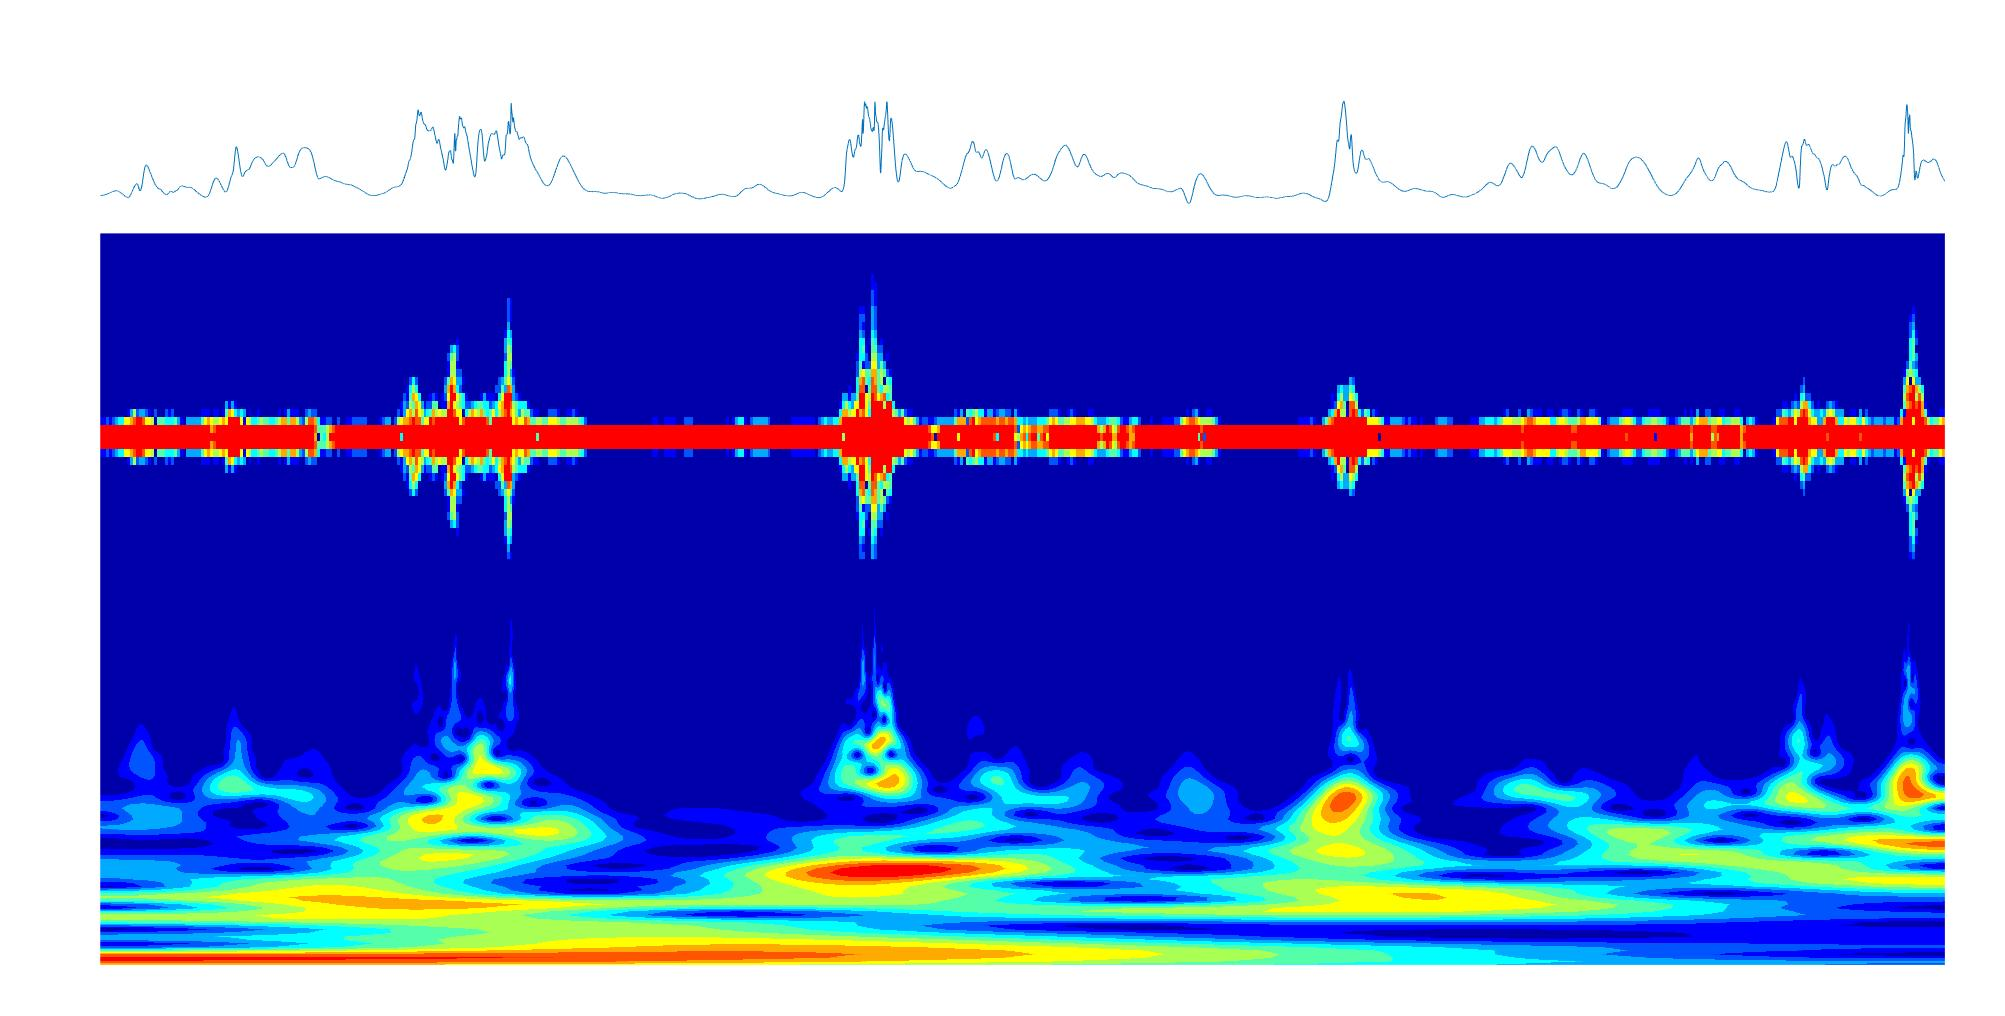TURBULENT: (841, 235, 904, 959), (1897, 235, 1929, 963), (501, 236, 517, 964)
